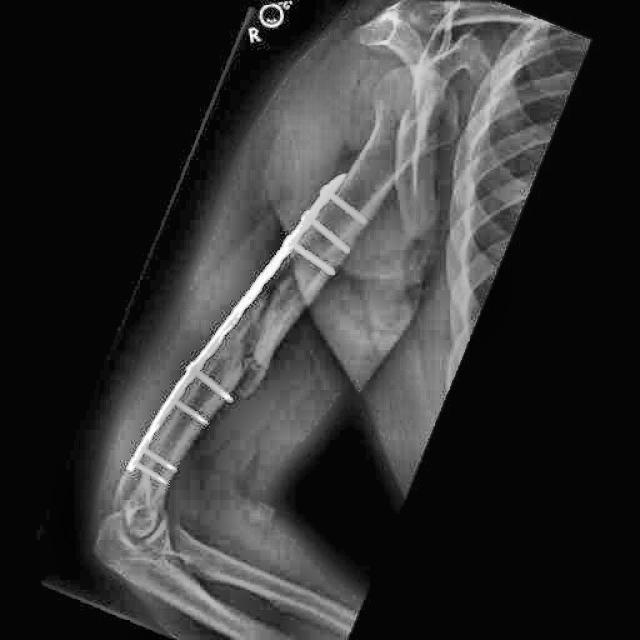humerus: (209, 276, 317, 417)
